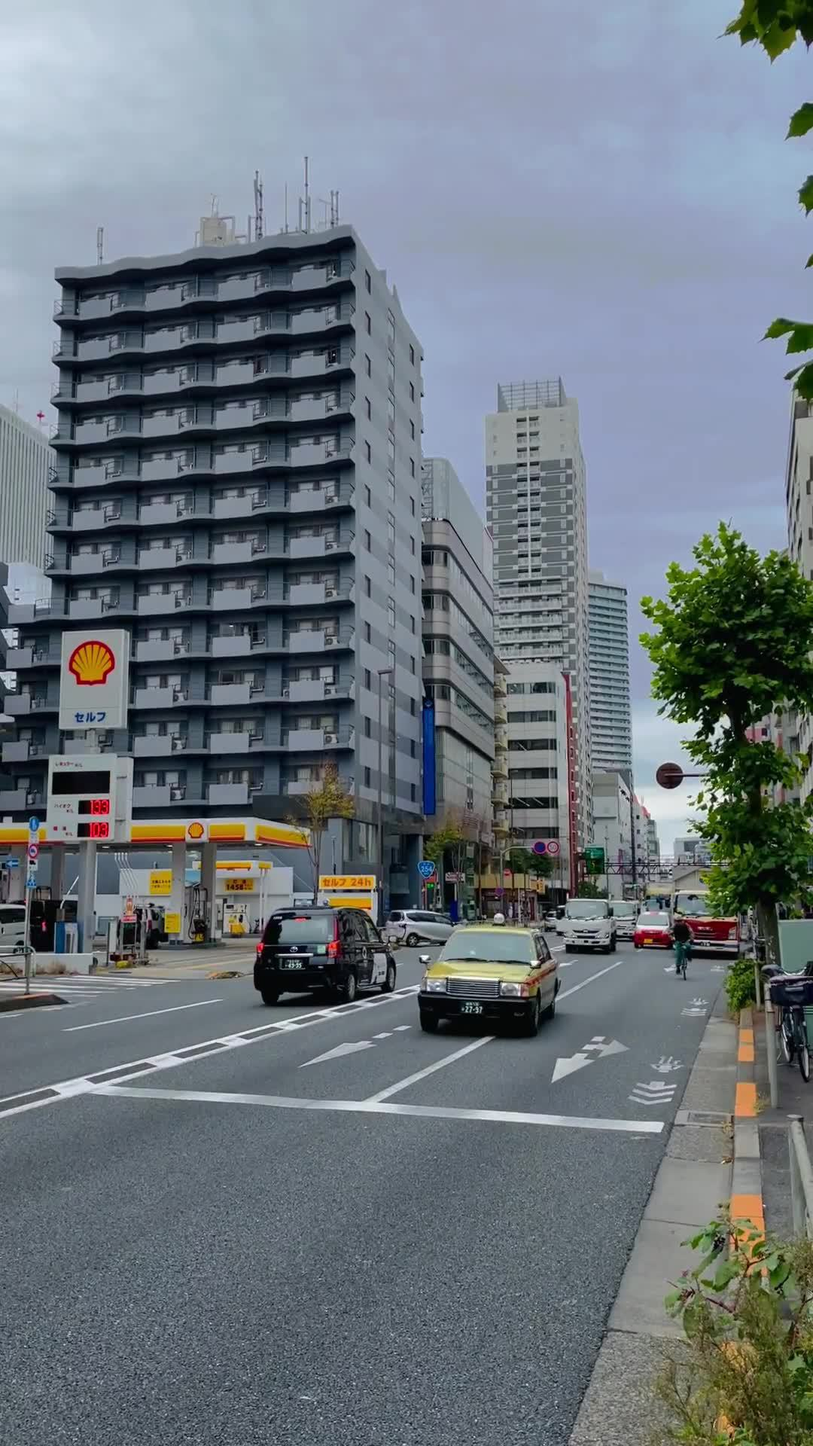bus: (115, 820, 309, 963)
car: (252, 860, 395, 1016), (412, 901, 550, 1026), (614, 913, 656, 970)
